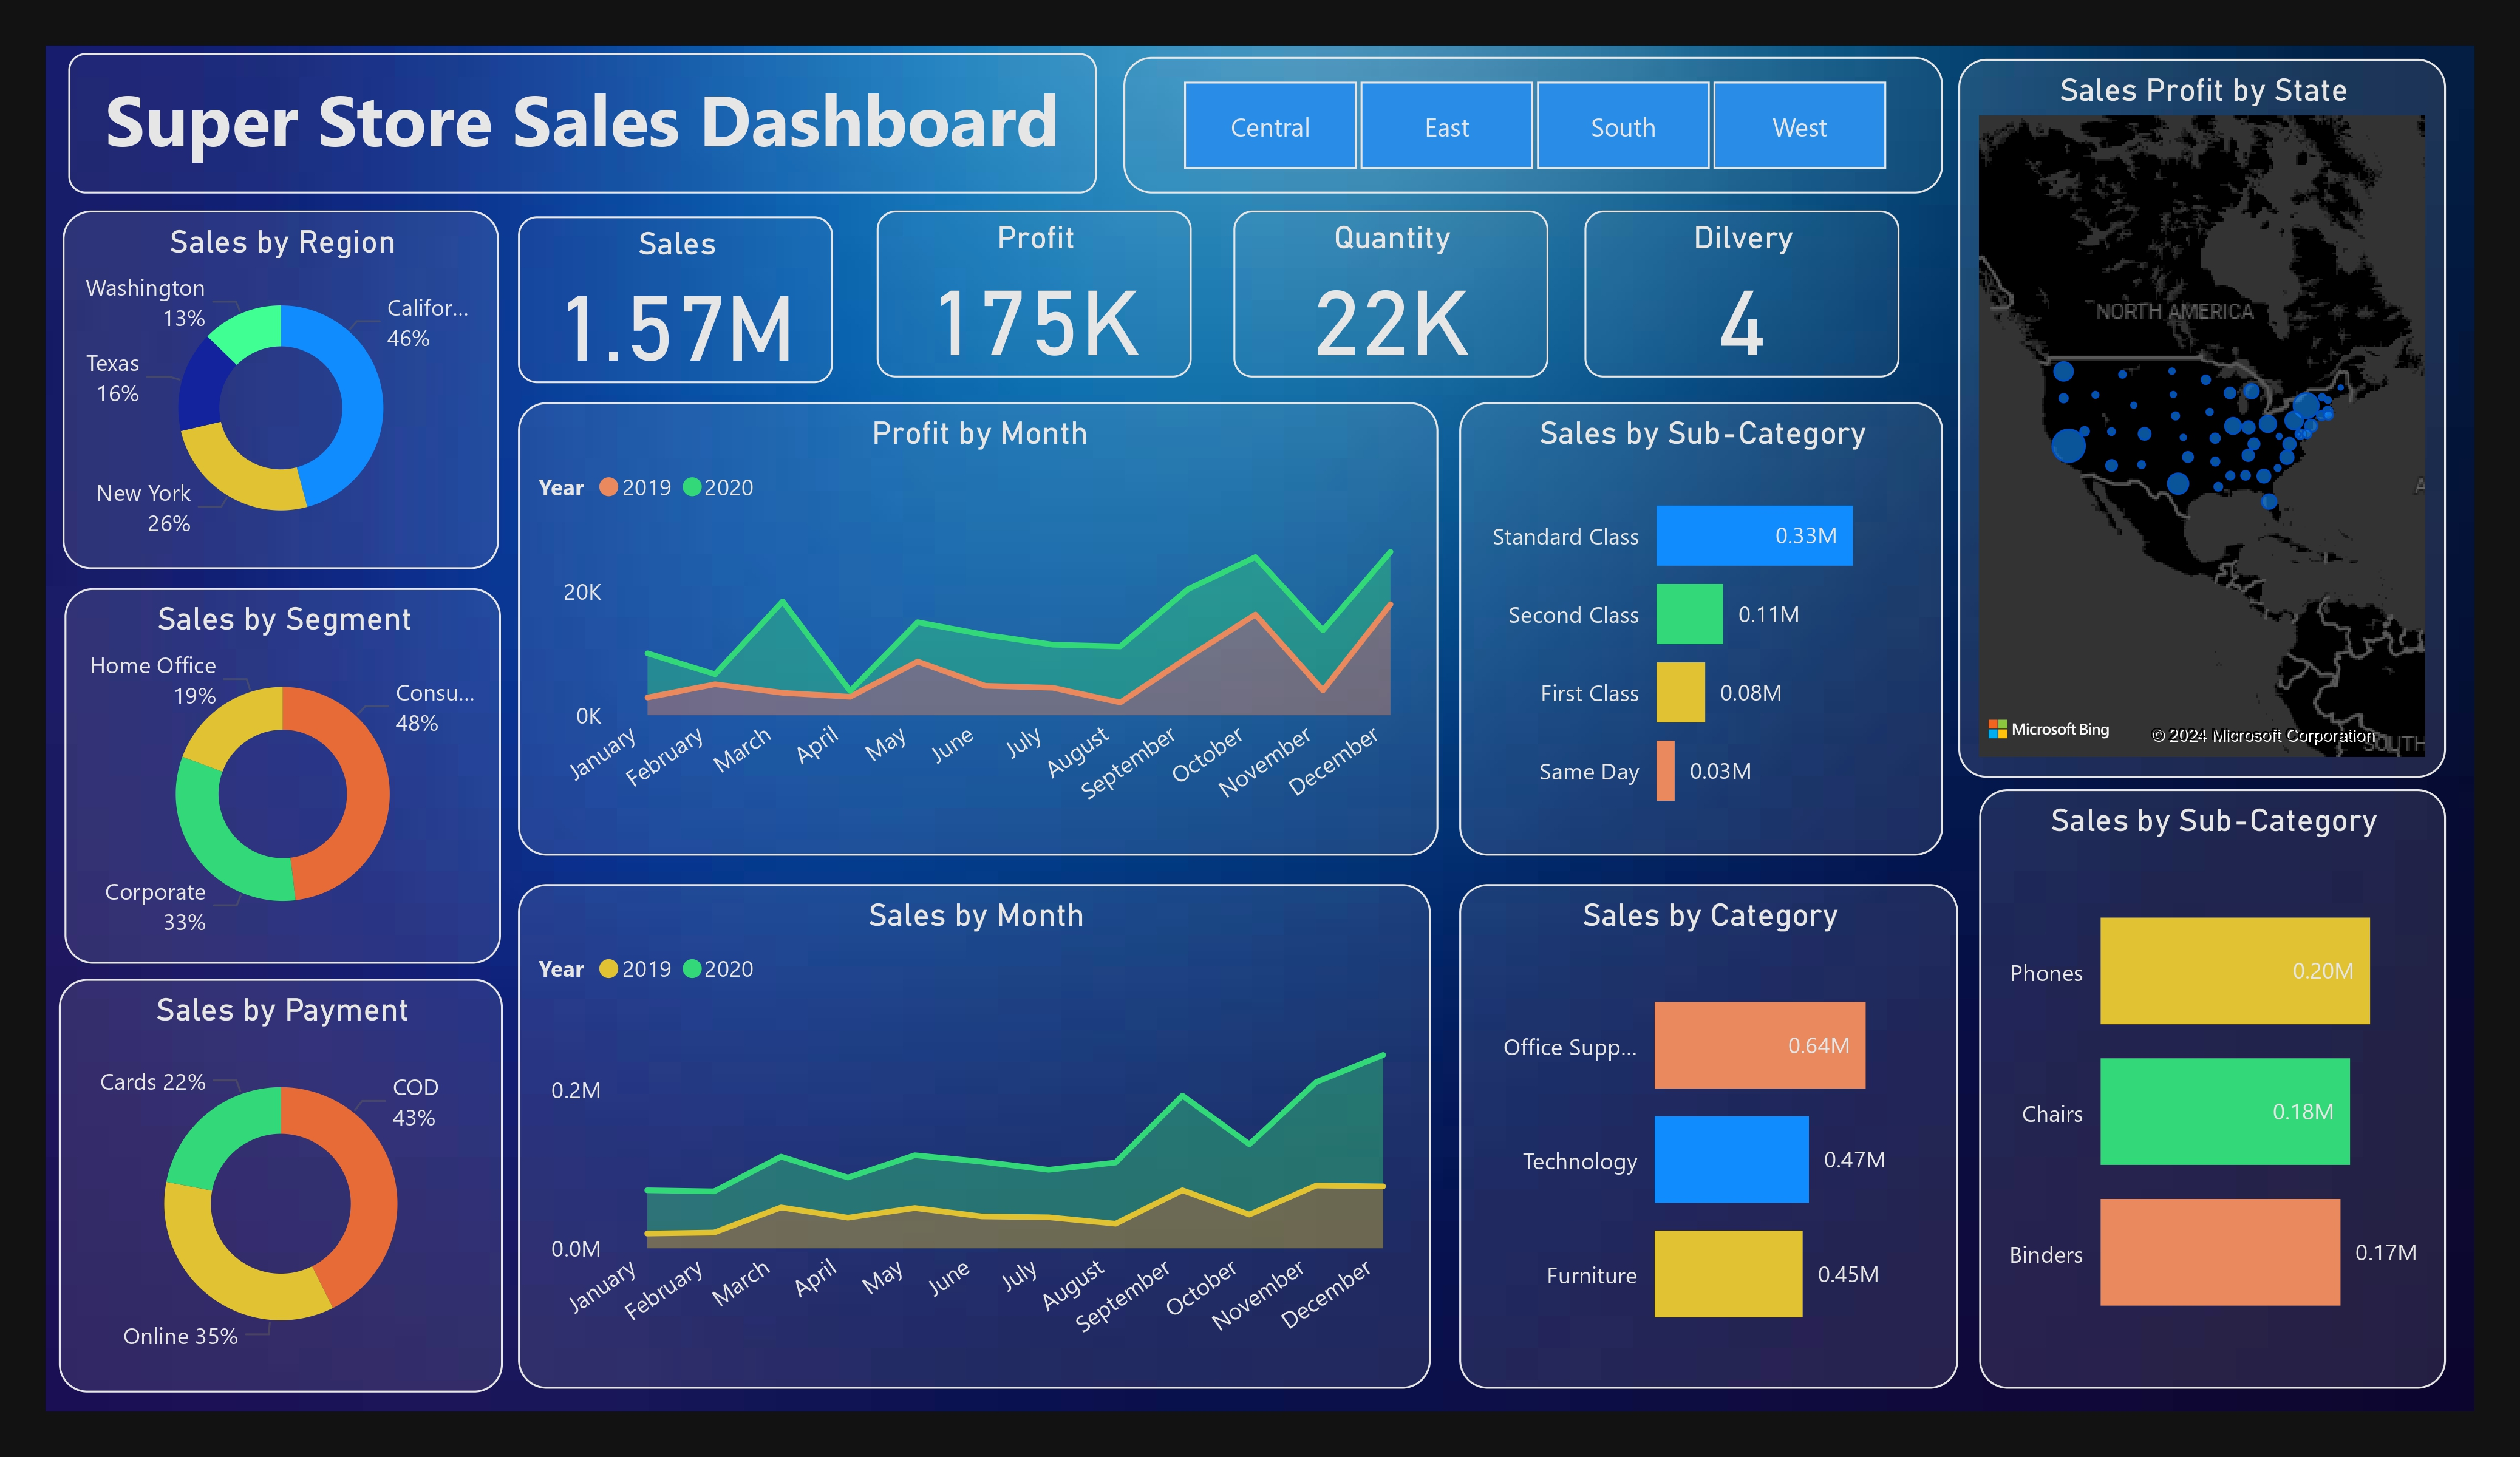

This screenshot's page, from the dashboard's own definition file:
{"tool":"powerbi","page":{"name":"Page 1","canvas":[1280,720],"ordinal":0},"visuals":[{"type":"clusteredBarChart","title":"Sales by Category","fields":{"Category":["SuperStore_Sales_Dataset.Category"],"Y":["Sum(SuperStore_Sales_Dataset.Sales)"]},"box":[744.6,442.4,263.1,266],"z":0},{"type":"clusteredBarChart","title":"Sales by Sub-Category","fields":{"Category":["SuperStore_Sales_Dataset.Sub-Category"],"Y":["Sum(SuperStore_Sales_Dataset.Sales)"]},"box":[1019.3,391.8,245.8,316.6],"z":1000},{"type":"clusteredBarChart","title":"Sales by Sub-Category","fields":{"Category":["SuperStore_Sales_Dataset.Ship Mode"],"Y":["Sum(SuperStore_Sales_Dataset.Sales)"]},"box":[744.6,188,255.9,238.6],"z":2000},{"type":"stackedAreaChart","title":"Sales by Month ","fields":{"Y":["Sum(SuperStore_Sales_Dataset.Sales)"],"Category":["SuperStore_Sales_Dataset.Order Date.Variation.Date Hierarchy.Month"],"Series":["SuperStore_Sales_Dataset.Order Date.Variation.Date Hierarchy.Year"]},"box":[248.7,442.4,481.4,266],"z":3000},{"type":"stackedAreaChart","title":"Profit by Month ","fields":{"Category":["SuperStore_Sales_Dataset.Order Date.Variation.Date Hierarchy.Month"],"Series":["SuperStore_Sales_Dataset.Order Date.Variation.Date Hierarchy.Year"],"Y":["Sum(SuperStore_Sales_Dataset.Profit)"]},"box":[248.7,188,485.8,238.6],"z":4000},{"type":"map","title":"Sales Profit by State","fields":{"Category":["SuperStore_Sales_Dataset.State"],"Size":["Sum(SuperStore_Sales_Dataset.Sales)"]},"box":[1007.7,7.2,257.3,378.8],"z":5000},{"type":"donutChart","title":"Sales by Segment","fields":{"Category":["SuperStore_Sales_Dataset.Segment"],"Y":["Sum(SuperStore_Sales_Dataset.Sales)"]},"box":[10.1,286.3,229.9,198.1],"z":6000},{"type":"donutChart","title":"Sales by Payment","fields":{"Category":["SuperStore_Sales_Dataset.Payment Mode"],"Y":["Sum(SuperStore_Sales_Dataset.Sales)"]},"box":[7.2,491.6,234.2,218.3],"z":7000},{"type":"slicer","fields":{"Values":["SuperStore_Sales_Dataset.Region"]},"box":[568.2,5.8,432.3,72.3],"z":8000},{"type":"textbox","box":[11.6,4.3,542.2,73.7],"z":9000},{"type":"card","title":"Sales","fields":{"Values":["Sum(SuperStore_Sales_Dataset.Sales)"]},"box":[248.7,89.6,166.3,88.2],"z":10000},{"type":"card","title":"Profit","fields":{"Values":["Sum(SuperStore_Sales_Dataset.Profit)"]},"box":[438.1,86.7,166.3,88.2],"z":11000},{"type":"card","title":"Quantity","fields":{"Values":["Sum(SuperStore_Sales_Dataset.Quantity)"]},"box":[626,86.7,166.3,88.2],"z":12000},{"type":"card","title":"Dilvery","fields":{"Values":["Avg(SuperStore_Sales_Dataset.AvgDelivery)"]},"box":[811.1,86.7,166.3,88.2],"z":13000},{"type":"donutChart","title":"Sales by Region","fields":{"Category":["SuperStore_Sales_Dataset.State"],"Y":["Sum(SuperStore_Sales_Dataset.Sales)"]},"box":[8.7,86.7,229.9,189.4],"z":14000}]}

Visuals, with their boxes in screenshot pixels (x1, y1, x2, y2):
"Sales by Category" clusteredBarChart: 1459,885,1958,1390
"Sales by Sub-Category" clusteredBarChart: 1980,789,2446,1390
"Sales by Sub-Category" clusteredBarChart: 1459,402,1944,855
"Sales by Month " stackedAreaChart: 517,885,1431,1390
"Profit by Month " stackedAreaChart: 517,402,1439,855
"Sales Profit by State" map: 1958,59,2446,778
"Sales by Segment" donutChart: 65,589,501,965
"Sales by Payment" donutChart: 60,978,503,1392
slicer - SuperStore_Sales_Dataset.Region: 1124,56,1944,194
textbox: 67,53,1097,194
"Sales" card: 517,216,833,383
"Profit" card: 877,210,1193,378
"Quantity" card: 1233,210,1549,378
"Dilvery" card: 1585,210,1900,378
"Sales by Region" donutChart: 62,210,499,569
